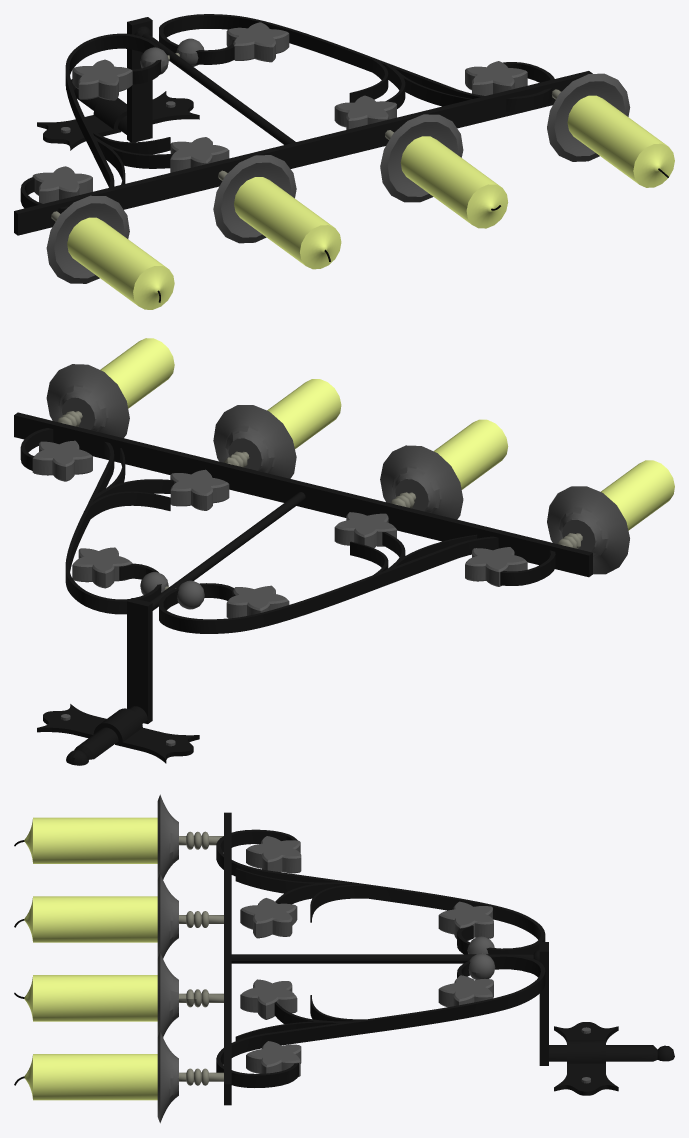
Rendered from MrWallCandles.obj.
The picture shows the model from 3 angles, top to bottom: view 1: azimuth 30°, elevation 25°; view 2: azimuth 150°, elevation 25°; view 3: azimuth 270°, elevation 25°; orthographic projection. The views are drawn at different scales.
Visible parts, largest first — view 1: Box01, Line36, Line02, Line18, Line31, Line44, Line41, Line42, Line45, Line20, Line23, Box02 (+12 smaller); view 2: Box01, Line02, Line36, Line45, Line20, Line23, Line42, Line31, Line18, Line44, Line41, Box02 (+12 smaller); view 3: Line36, Line02, Line18, Line44, Line41, Line31, Cylinder03, Box01, Star03, Star01, Star06, Star02 (+16 smaller).
Part boxes in pixels (box(x1,y1,x2,y2)): Box01: box(14, 71, 592, 235); Line36: box(159, 14, 554, 111); Line02: box(20, 33, 173, 213); Line18: box(567, 95, 674, 187); Line31: box(234, 177, 341, 269); Line44: box(67, 217, 174, 309); Line41: box(400, 136, 508, 228); Line42: box(380, 114, 463, 202); Line45: box(46, 195, 129, 283); Line20: box(547, 73, 630, 161); Line23: box(213, 155, 296, 243); Box02: box(127, 17, 152, 142); Box01: box(14, 412, 592, 577); Line02: box(159, 532, 555, 633); Line36: box(20, 428, 174, 614); Line45: box(547, 486, 629, 574); Line20: box(46, 364, 129, 438); Line23: box(380, 445, 463, 519); Line42: box(213, 405, 296, 478); Line31: box(434, 419, 508, 489); Line18: box(100, 338, 174, 408); Line44: box(601, 460, 674, 530); Line41: box(267, 379, 341, 448); Box02: box(127, 598, 152, 723); Line36: box(216, 955, 545, 1087); Line02: box(216, 829, 545, 954); Line18: box(24, 1054, 157, 1100); Line44: box(24, 817, 157, 863); Line41: box(24, 975, 157, 1021); Line31: box(24, 896, 157, 942); Cylinder03: box(231, 954, 533, 963); Box01: box(224, 812, 231, 1105); Star03: box(240, 898, 297, 938); Star01: box(246, 836, 301, 873); Star06: box(240, 979, 297, 1019); Star02: box(438, 901, 493, 940).
Bounding box in the file's own units: 493 × 120 × 499.
